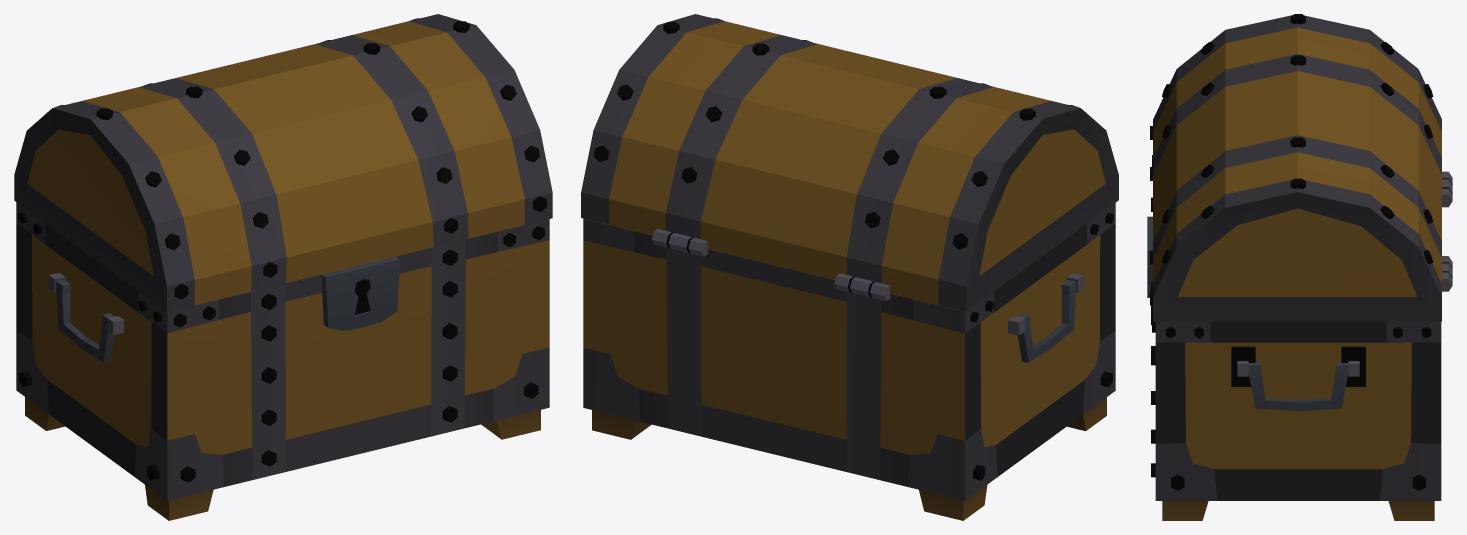
File: starter_chest.fbx
3 renders of one model, left to right at view 1: azimuth 30°, elevation 25°; view 2: azimuth 150°, elevation 25°; view 3: azimuth 270°, elevation 25°, orthographic. The views are drawn at different scales.
Parts seen in each view (by area): view 1: SK_Chest_Lid, SK_Chest_Base; view 2: SK_Chest_Lid, SK_Chest_Base; view 3: SK_Chest_Lid, SK_Chest_Base.
Part boxes in pixels (x1=…): SK_Chest_Lid: x1=14, y1=14, x2=552, y2=312; SK_Chest_Base: x1=16, y1=202, x2=549, y2=520; SK_Chest_Lid: x1=581, y1=14, x2=1118, y2=311; SK_Chest_Base: x1=583, y1=203, x2=1115, y2=520; SK_Chest_Lid: x1=1150, y1=14, x2=1441, y2=321; SK_Chest_Base: x1=1147, y1=155, x2=1452, y2=520.
Size of the model in its own units: 1.92 by 1.61 by 1.32.
